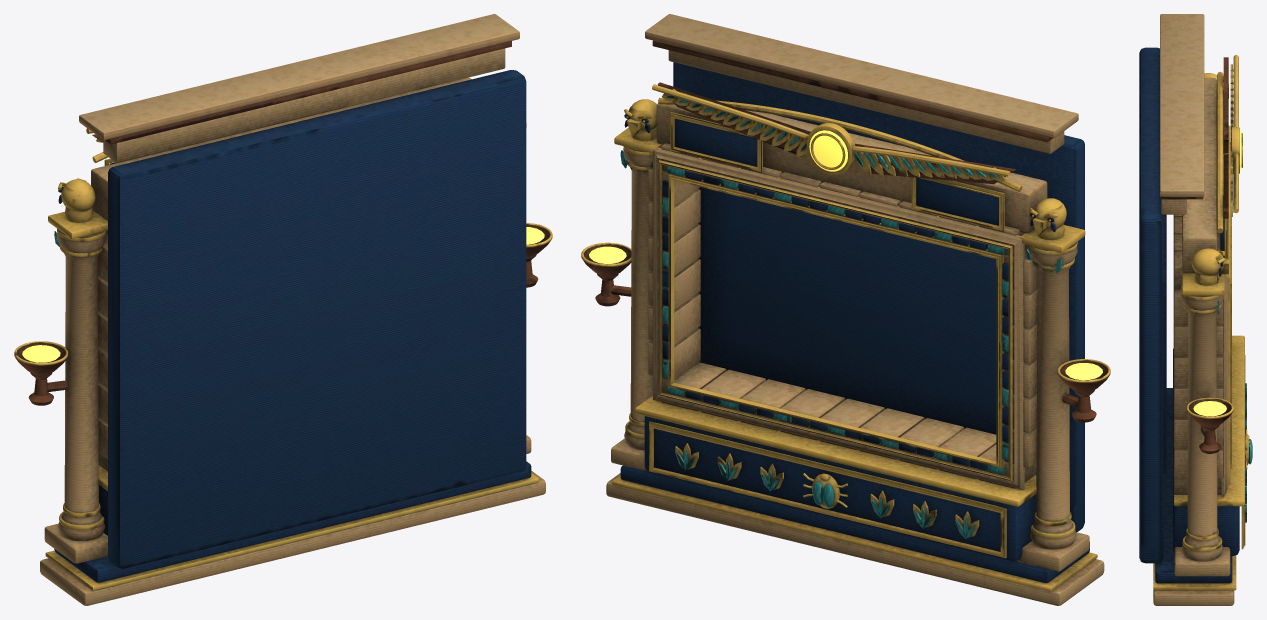
The picture shows the model from 3 angles, left to right: view 1: azimuth 30°, elevation 25°; view 2: azimuth 150°, elevation 25°; view 3: azimuth 270°, elevation 25°; orthographic projection. The views are drawn at different scales.
Parts seen in each view (by area): view 1: Deep_lapis_stone, Carved_honey_sandstone, Polished_gold_inlay, Antique_bronze, Solar_and_brazier_glow; view 2: Deep_lapis_stone, Carved_honey_sandstone, Polished_gold_inlay, Antique_bronze, Turquoise_inlay, Solar_and_brazier_glow; view 3: Carved_honey_sandstone, Deep_lapis_stone, Polished_gold_inlay, Antique_bronze, Solar_and_brazier_glow, Turquoise_inlay.
Part boxes in pixels (x1,y1,x2,y2): Deep_lapis_stone: (54,70,531,582); Carved_honey_sandstone: (40,14,545,605); Polished_gold_inlay: (14,123,552,590); Antique_bronze: (14,41,552,405); Solar_and_brazier_glow: (22,227,544,362); Deep_lapis_stone: (620,62,1089,582); Carved_honey_sandstone: (606,14,1104,605); Polished_gold_inlay: (581,84,1110,591); Antique_bronze: (581,40,1110,422); Turquoise_inlay: (620,95,1062,538); Solar_and_brazier_glow: (589,130,1102,380); Carved_honey_sandstone: (1153,14,1234,605); Deep_lapis_stone: (1139,47,1239,583); Polished_gold_inlay: (1153,55,1250,590); Antique_bronze: (1161,57,1233,453); Solar_and_brazier_glow: (1193,131,1241,416); Turquoise_inlay: (1217,69,1252,522).
Bounding box in the file's own units: 11.08 × 9.3 × 2.35.
Materials: 6 (5 with a texture image).
